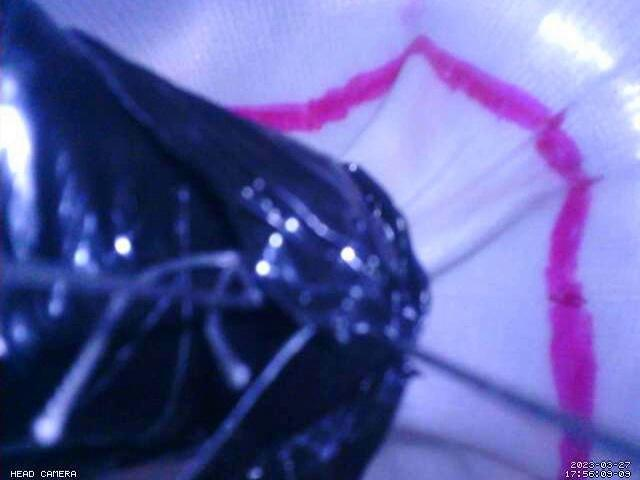red-circle: (227, 32, 598, 480)
